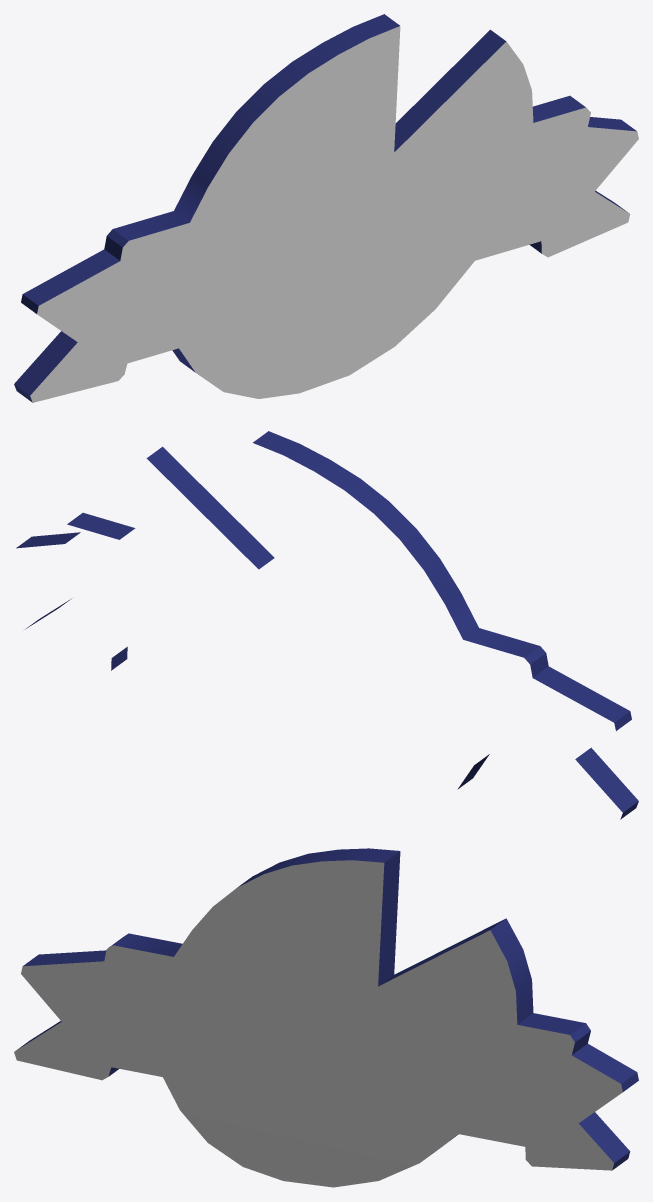
The model's file is frankysSign_7.glb.
3 views of the same model, one above another, from view 1: azimuth 30°, elevation 25°; view 2: azimuth 150°, elevation 25°; view 3: azimuth 330°, elevation 25° (orthographic).
Parts seen in each view (by area): view 1: frankysSign; view 2: frankysSign; view 3: frankysSign.
Boxes of the visible parts, x1,y1,x2,y2 form: frankysSign: (14,14,638,402); frankysSign: (16,431,638,819); frankysSign: (14,848,638,1187).
Size of the model in its own units: 4.06 by 2.19 by 0.1868.
